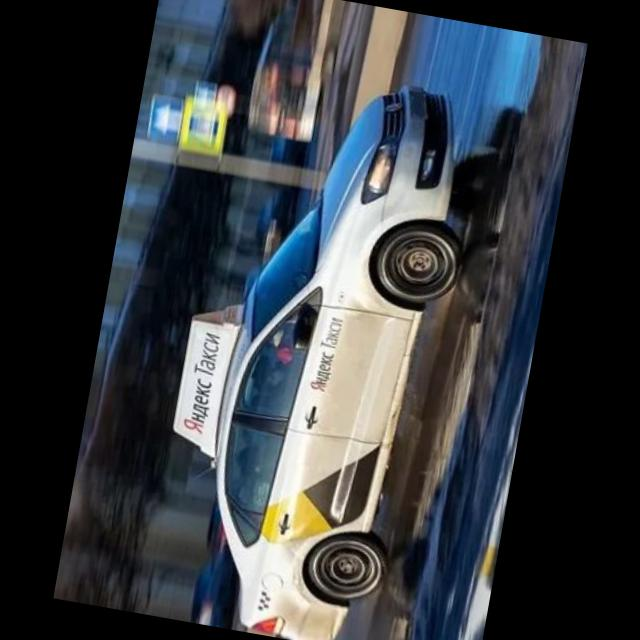taxi: (137, 54, 492, 640)
